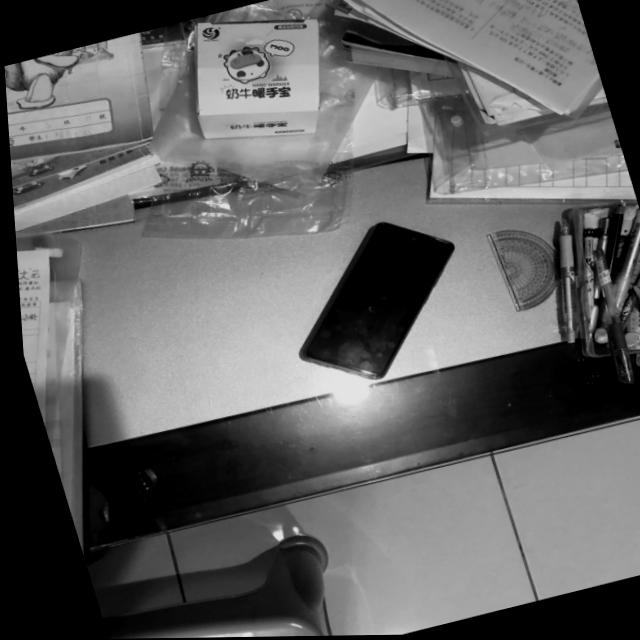Smartphone: (294, 223, 451, 380)
